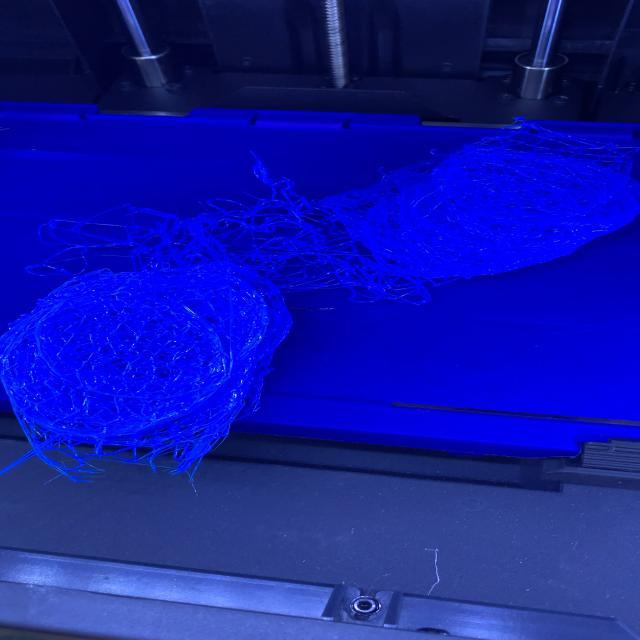spaghetti: (25, 116, 638, 306), (0, 260, 294, 488)
